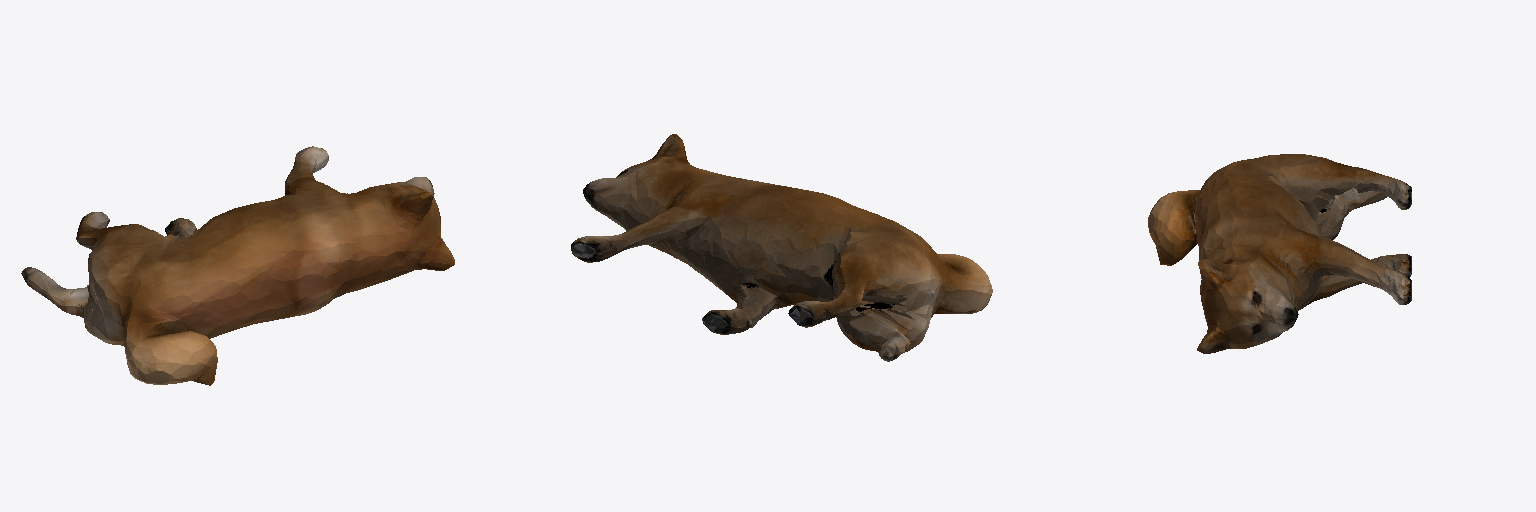
The picture shows the model from 3 angles: view 1: azimuth 30°, elevation 25°; view 2: azimuth 150°, elevation 25°; view 3: azimuth 270°, elevation 25°; orthographic projection.
Size of the model in its own units: 0.6973 by 0.2241 by 0.4438.
Materials: 1 (1 with a texture image).